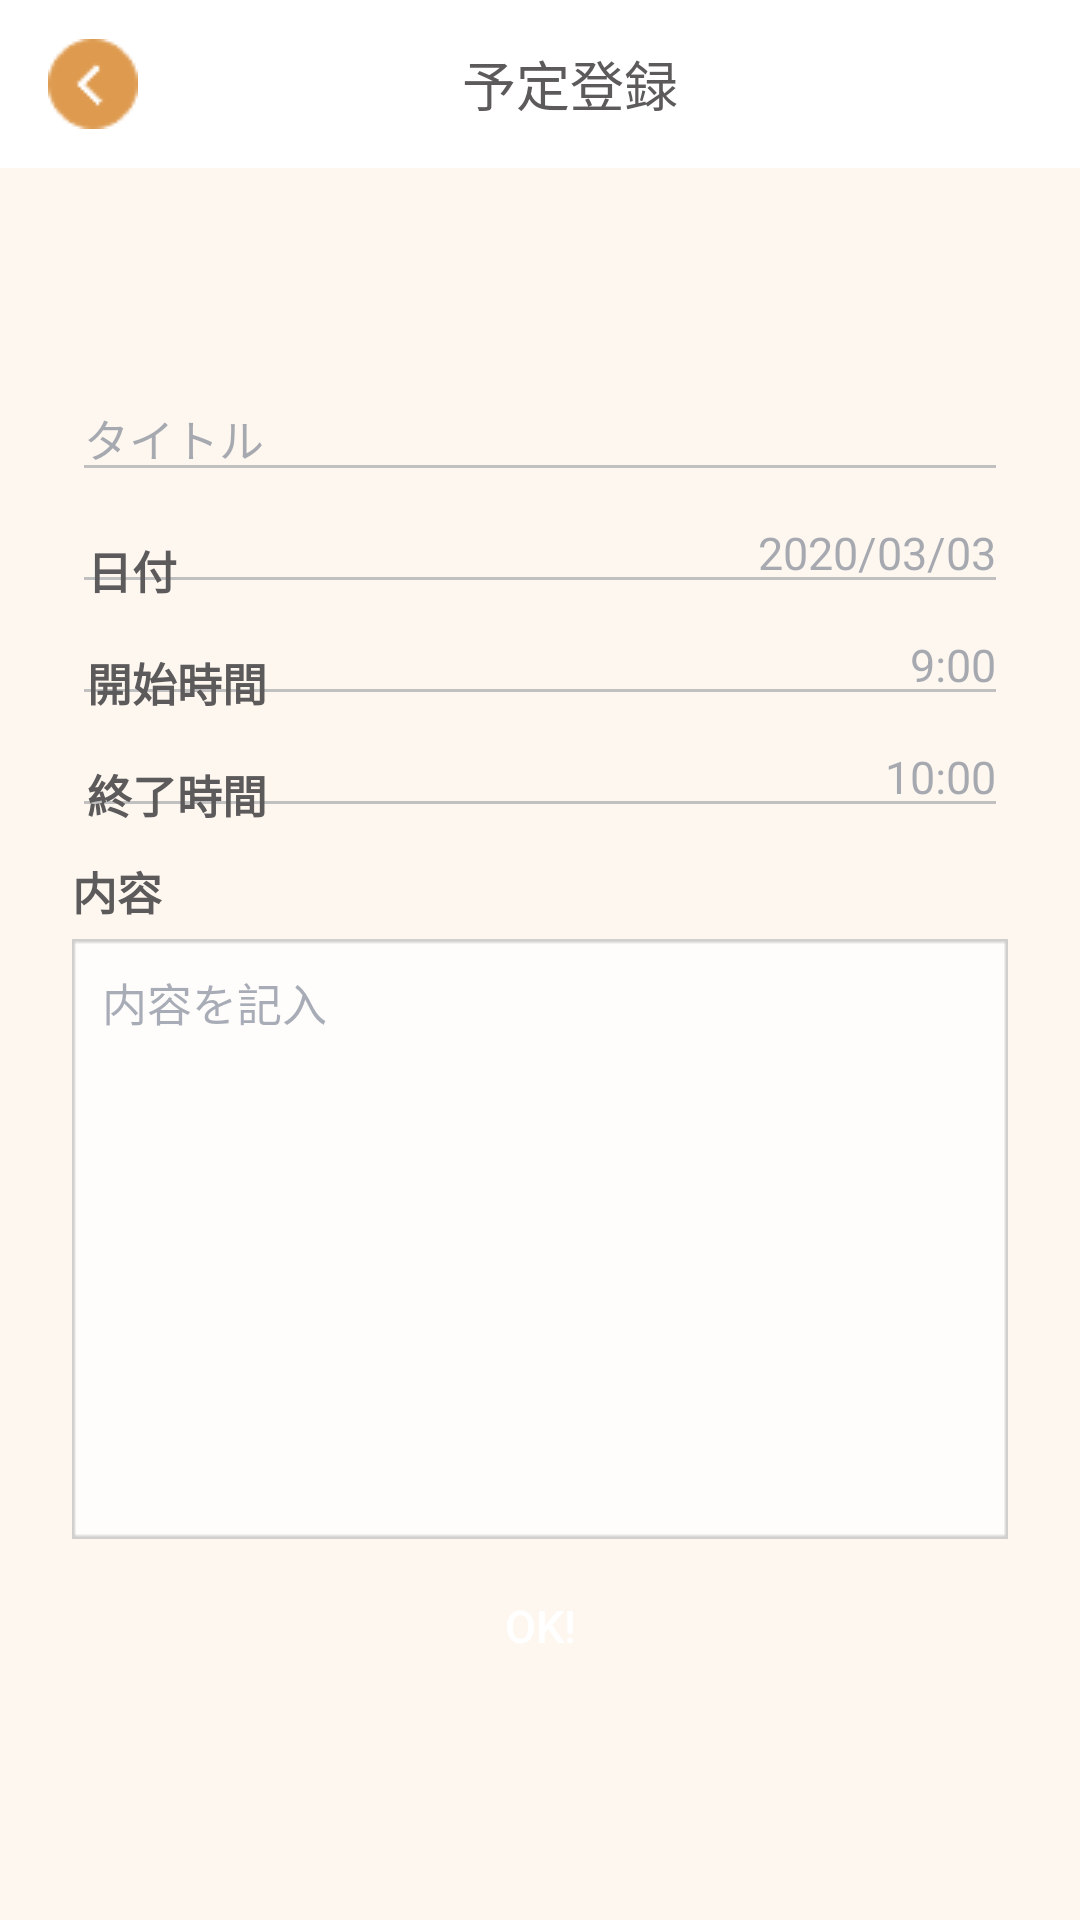

Screen size 1080 x 1920. Icon name, then its box in pixels as (x1, y1, x2, y2):
戻るボタン: (48, 39, 138, 129)
